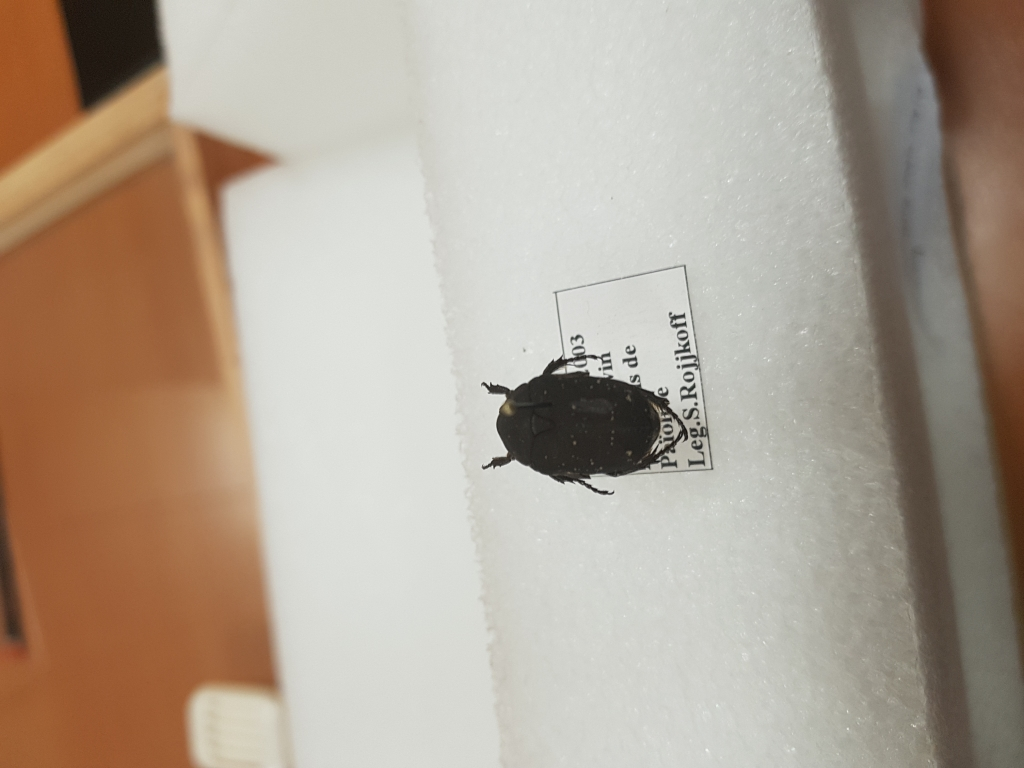Protaetia_morio_morio: (473, 346, 692, 506)
